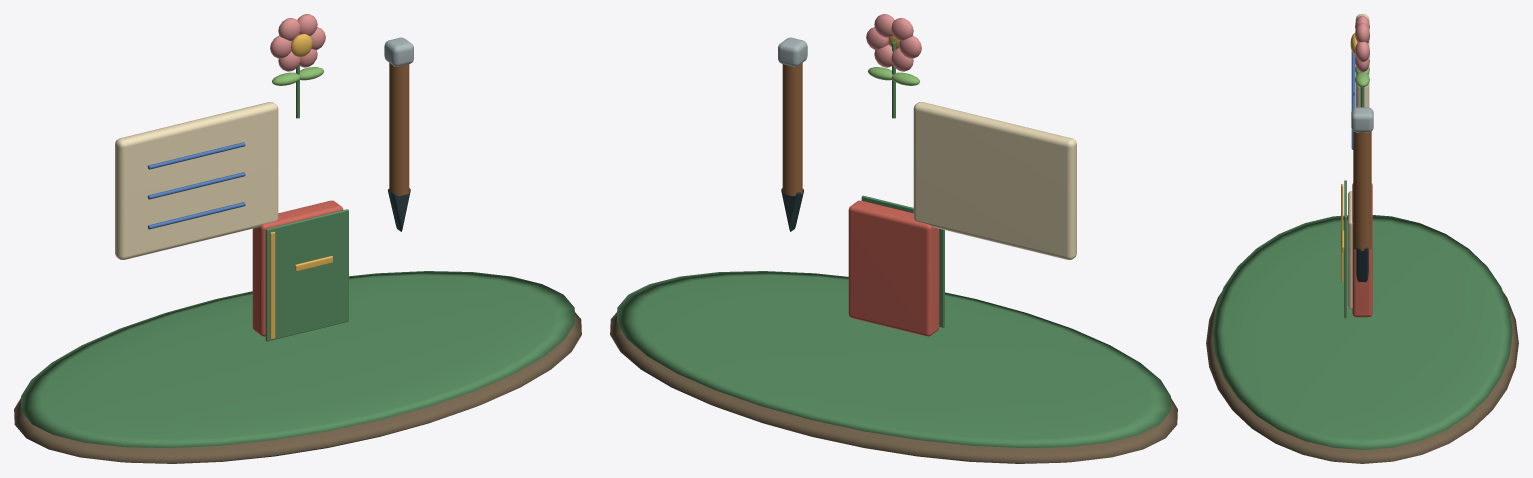
The model's file is complete-second-mixed-determined-magazine.glb.
3 views of the same model, side by side, from view 1: azimuth 30°, elevation 25°; view 2: azimuth 150°, elevation 25°; view 3: azimuth 270°, elevation 25° (orthographic). The views are drawn at different scales.
Parts seen in each view (by area): view 1: complete-second-mixed-determined-magazine_surface_01, complete-second-mixed-determined-magazine_surface_02, complete-second-mixed-determined-magazine_surface_00, complete-second-mixed-determined-magazine_surface_04, complete-second-mixed-determined-magazine_surface_07, complete-second-mixed-determined-magazine_surface_10, complete-second-mixed-determined-magazine_surface_03, complete-second-mixed-determined-magazine_surface_08, complete-second-mixed-determined-magazine_surface_06; view 2: complete-second-mixed-determined-magazine_surface_01, complete-second-mixed-determined-magazine_surface_02, complete-second-mixed-determined-magazine_surface_07, complete-second-mixed-determined-magazine_surface_00, complete-second-mixed-determined-magazine_surface_04, complete-second-mixed-determined-magazine_surface_10, complete-second-mixed-determined-magazine_surface_06; view 3: complete-second-mixed-determined-magazine_surface_01, complete-second-mixed-determined-magazine_surface_00, complete-second-mixed-determined-magazine_surface_04, complete-second-mixed-determined-magazine_surface_07, complete-second-mixed-determined-magazine_surface_02, complete-second-mixed-determined-magazine_surface_10, complete-second-mixed-determined-magazine_surface_06, complete-second-mixed-determined-magazine_surface_05, complete-second-mixed-determined-magazine_surface_08, complete-second-mixed-determined-magazine_surface_03.
Part boxes in pixels (left/top/right/bottom): complete-second-mixed-determined-magazine_surface_01: left=21, top=65, right=574, bottom=448; complete-second-mixed-determined-magazine_surface_02: left=115, top=102, right=278, bottom=259; complete-second-mixed-determined-magazine_surface_00: left=14, top=312, right=581, bottom=463; complete-second-mixed-determined-magazine_surface_04: left=389, top=63, right=409, bottom=196; complete-second-mixed-determined-magazine_surface_07: left=252, top=200, right=343, bottom=336; complete-second-mixed-determined-magazine_surface_10: left=270, top=14, right=325, bottom=71; complete-second-mixed-determined-magazine_surface_03: left=147, top=142, right=245, bottom=229; complete-second-mixed-determined-magazine_surface_08: left=270, top=34, right=332, bottom=339; complete-second-mixed-determined-magazine_surface_06: left=384, top=37, right=413, bottom=66; complete-second-mixed-determined-magazine_surface_01: left=617, top=42, right=1170, bottom=448; complete-second-mixed-determined-magazine_surface_02: left=913, top=102, right=1076, bottom=259; complete-second-mixed-determined-magazine_surface_07: left=848, top=200, right=939, bottom=336; complete-second-mixed-determined-magazine_surface_00: left=610, top=312, right=1177, bottom=463; complete-second-mixed-determined-magazine_surface_04: left=782, top=63, right=802, bottom=196; complete-second-mixed-determined-magazine_surface_10: left=866, top=14, right=921, bottom=71; complete-second-mixed-determined-magazine_surface_06: left=778, top=37, right=807, bottom=66; complete-second-mixed-determined-magazine_surface_01: left=1212, top=87, right=1512, bottom=449; complete-second-mixed-determined-magazine_surface_00: left=1206, top=292, right=1518, bottom=463; complete-second-mixed-determined-magazine_surface_04: left=1353, top=131, right=1371, bottom=250; complete-second-mixed-determined-magazine_surface_07: left=1352, top=183, right=1372, bottom=317; complete-second-mixed-determined-magazine_surface_02: left=1348, top=14, right=1369, bottom=309; complete-second-mixed-determined-magazine_surface_10: left=1355, top=15, right=1369, bottom=72; complete-second-mixed-determined-magazine_surface_06: left=1351, top=107, right=1373, bottom=132; complete-second-mixed-determined-magazine_surface_05: left=1356, top=247, right=1368, bottom=281; complete-second-mixed-determined-magazine_surface_08: left=1341, top=33, right=1357, bottom=282; complete-second-mixed-determined-magazine_surface_03: left=1351, top=51, right=1355, bottom=149.
Bounding box in the file's own units: 4.56 × 2.98 × 2.5.
